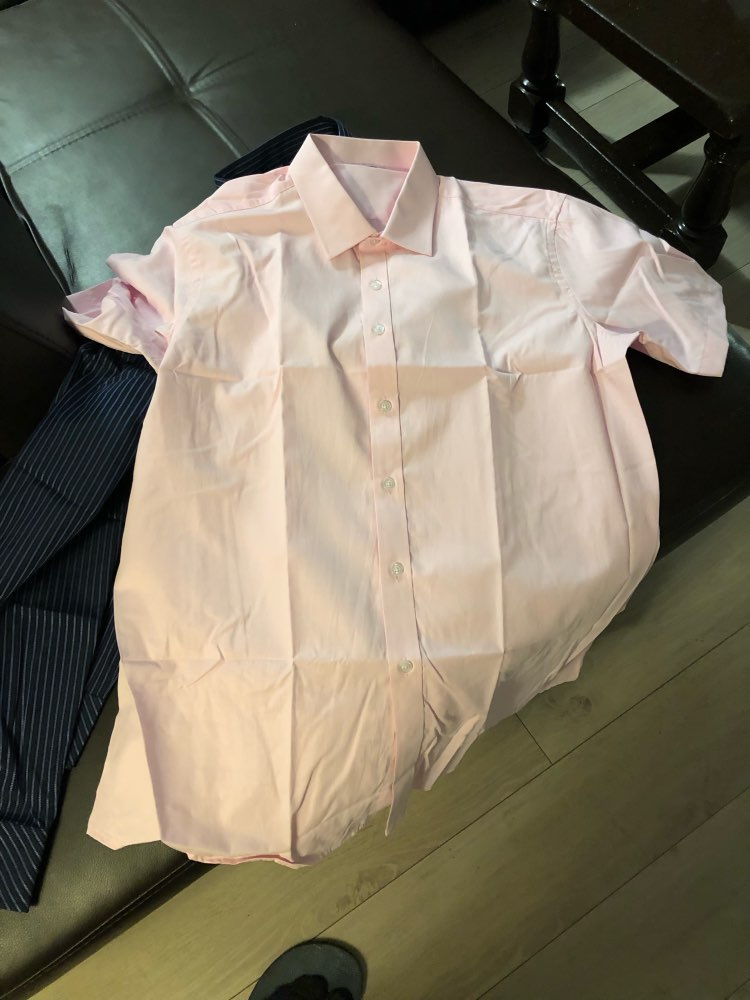shirts: (94, 145, 721, 841)
